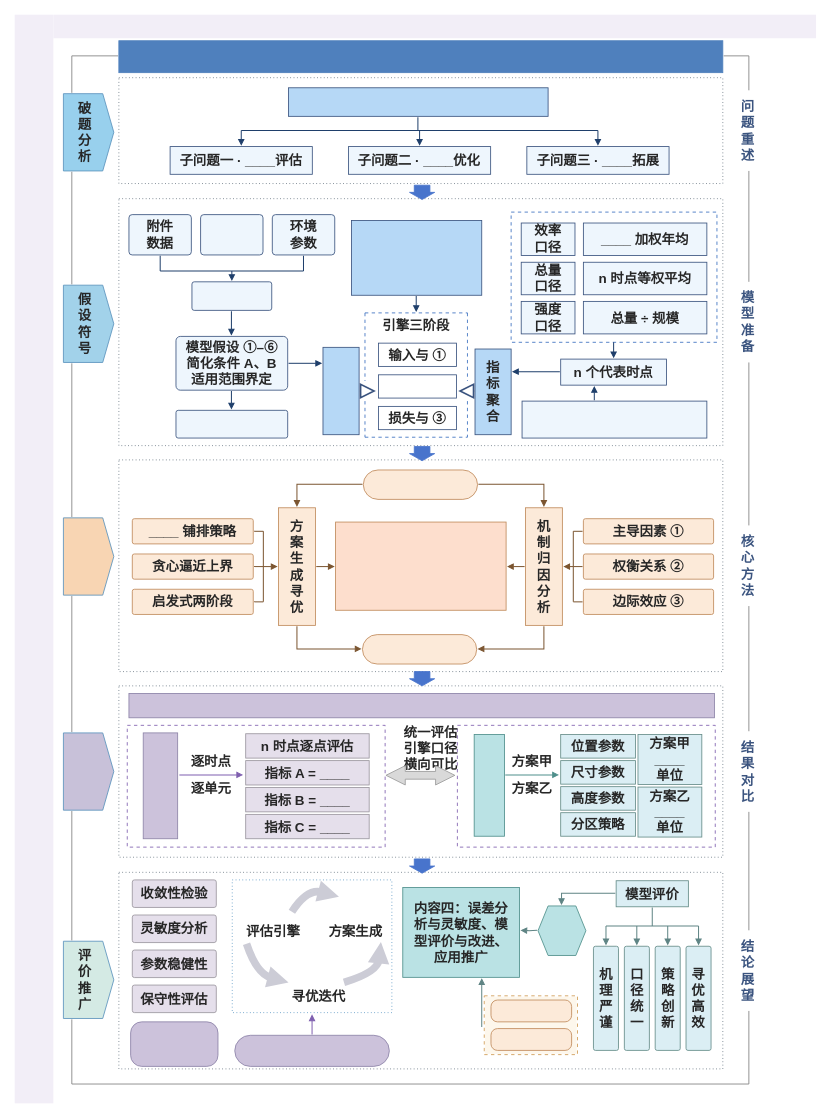
This 830x1117 diagram has some shape labels left out. The centre of each missing label's shape, as x and y in pixels:
"____问题的界定、目标拆解与边界说明" belongs at pixel 418 101.
"k 组随机种子复算" belongs at pixel 311 1050.
"中间量 ②" belongs at pixel 417 386.
"优 化 设 计" belongs at pixel 488 785.
"内容一：统一____ 评估引擎 core_model.py （各问共用）" belongs at pixel 416 257.
"内容三：各问求解结果与统一口径下的横向对比" belongs at pixel 421 705.
"内容二：____ 生成 + ____ 选取 + 启发式 / 网格搜索两阶段" belongs at pixel 420 565.
"场景拓展" belongs at pixel 531 1010.
"基 准 方 案 评 估" belongs at pixel 160 785.
"建 模 寻 优" belongs at pixel 88 556.
"改进 方向" belongs at pixel 561 930.
"数据整备" belongs at pixel 231 295.
"机 理 建 模" belongs at pixel 340 390.
"松弛视角（二）" belongs at pixel 419 649.
"样本 N = ____ 条 参数 r = ____ 单位" belongs at pixel 614 419.
"求 解 结 果" belongs at pixel 88 771.
"研究课题：____对____重构的影响机制研究（占位标题）" belongs at pixel 420 56.
"符号与口径定义" belongs at pixel 231 424.
"精确解法 交叉校验" belongs at pixel 174 1043.
"约束视角（一）" belongs at pixel 420 484.
"跨域移植" belongs at pixel 531 1039.
"题给 约束" belongs at pixel 231 234.
